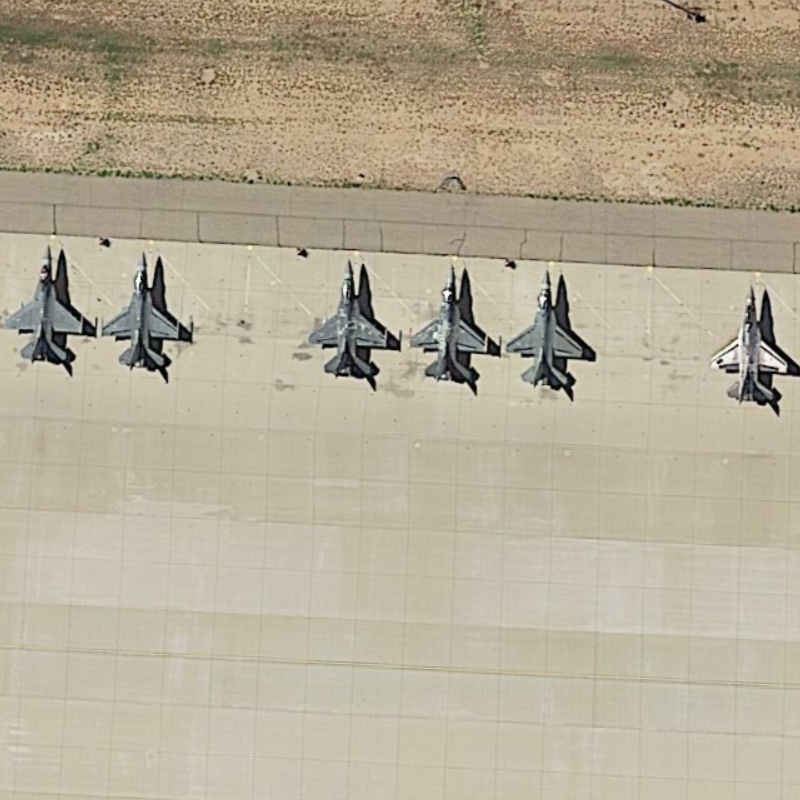A5: (98, 237, 190, 383), (503, 260, 596, 400), (700, 270, 793, 410), (305, 255, 398, 389), (2, 244, 91, 370), (410, 253, 488, 389)
